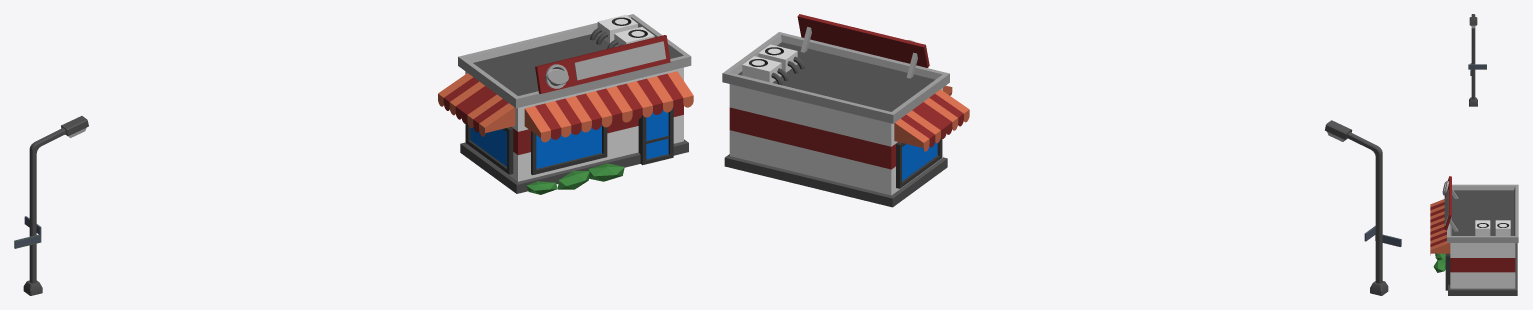
File: shop update.fbx
The picture shows the model from 3 angles, left to right: view 1: azimuth 30°, elevation 25°; view 2: azimuth 150°, elevation 25°; view 3: azimuth 270°, elevation 25°; orthographic projection. The views are drawn at different scales.
Visible parts, largest first — view 1: SHOP, LAMPIONE_segnaletica3; view 2: SHOP, LAMPIONE_segnaletica3; view 3: SHOP, LAMPIONE_segnaletica3.
Boxes of the visible parts, x1,y1,x2,y2 form: SHOP: (438, 14, 693, 194); LAMPIONE_segnaletica3: (14, 116, 88, 295); SHOP: (722, 14, 969, 207); LAMPIONE_segnaletica3: (1325, 120, 1401, 295); SHOP: (1430, 176, 1518, 295); LAMPIONE_segnaletica3: (1468, 14, 1486, 106).
Size of the model in its own units: 18.45 by 4.4 by 3.48.
